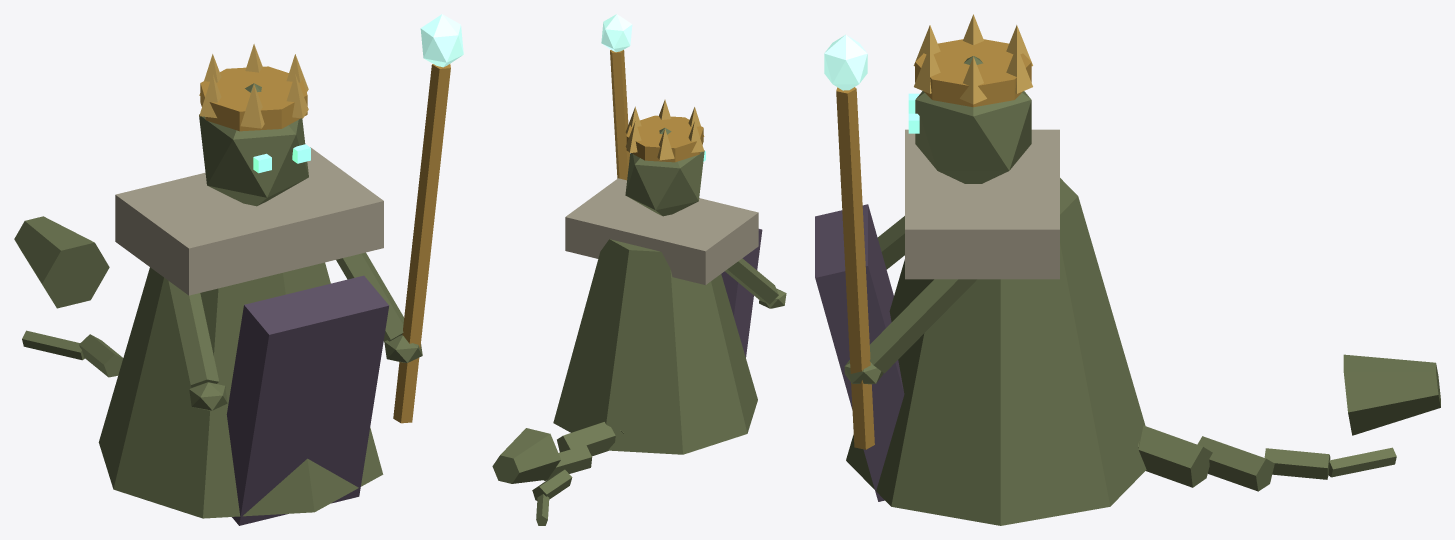
Rendered from lizard_lich.glb.
The picture shows the model from 3 angles, left to right: view 1: azimuth 30°, elevation 25°; view 2: azimuth 150°, elevation 25°; view 3: azimuth 270°, elevation 25°; orthographic projection. The views are drawn at different scales.
Parts seen in each view (by area): view 1: kingly robe.001, robe front.001, ermine mantle.001, sceptre.001, crowned head.001, lizard snout, crown band.001, bony arm.002, sceptre gem.001, bony arm.003, lizard tail.003, lizard tail.004 (+4 smaller); view 2: kingly robe.001, ermine mantle.001, crowned head.001, lizard snout, crown band.001, sceptre.001, robe front.001, lizard tail.001, bony arm.002, sceptre gem.001, lizard tail.002, lizard tail.003 (+1 smaller); view 3: kingly robe.001, ermine mantle.001, robe front.001, crowned head.001, sceptre.001, lizard snout, crown band.001, bony arm.003, lizard tail.001, lizard tail.002, sceptre gem.001, lizard tail.003 (+2 smaller).
Part boxes in pixels (x1,y1,x2,y2): kingly robe.001: (98, 262, 383, 518); robe front.001: (226, 275, 389, 525); ermine mantle.001: (115, 147, 383, 295); sceptre.001: (393, 64, 450, 423); crowned head.001: (199, 83, 308, 206); lizard snout: (14, 216, 109, 308); crown band.001: (200, 66, 307, 131); bony arm.002: (168, 281, 219, 387); sceptre gem.001: (420, 14, 463, 67); bony arm.003: (336, 252, 403, 341); lizard tail.003: (79, 334, 123, 377); lizard tail.004: (22, 330, 84, 360); kingly robe.001: (553, 239, 757, 454); ermine mantle.001: (565, 178, 758, 284); crowned head.001: (625, 128, 704, 216); lizard snout: (492, 428, 560, 483); crown band.001: (626, 115, 703, 162); sceptre.001: (610, 50, 629, 180); robe front.001: (721, 229, 762, 357); lizard tail.001: (557, 422, 615, 456); bony arm.002: (725, 258, 778, 304); sceptre gem.001: (601, 14, 632, 52); lizard tail.002: (544, 445, 592, 480); lizard tail.003: (532, 469, 572, 500); kingly robe.001: (846, 178, 1146, 525); ermine mantle.001: (905, 129, 1059, 279); robe front.001: (815, 204, 904, 501); crowned head.001: (915, 56, 1031, 183); sceptre.001: (836, 87, 874, 449); lizard snout: (1343, 354, 1440, 435); crown band.001: (915, 39, 1031, 107); bony arm.003: (869, 279, 976, 373); lizard tail.001: (1138, 425, 1212, 487); lizard tail.002: (1197, 436, 1274, 491); sceptre gem.001: (824, 34, 867, 90); lizard tail.003: (1264, 448, 1330, 479).
Size of the model in its own units: 0.365 by 0.6151 by 0.6866.
